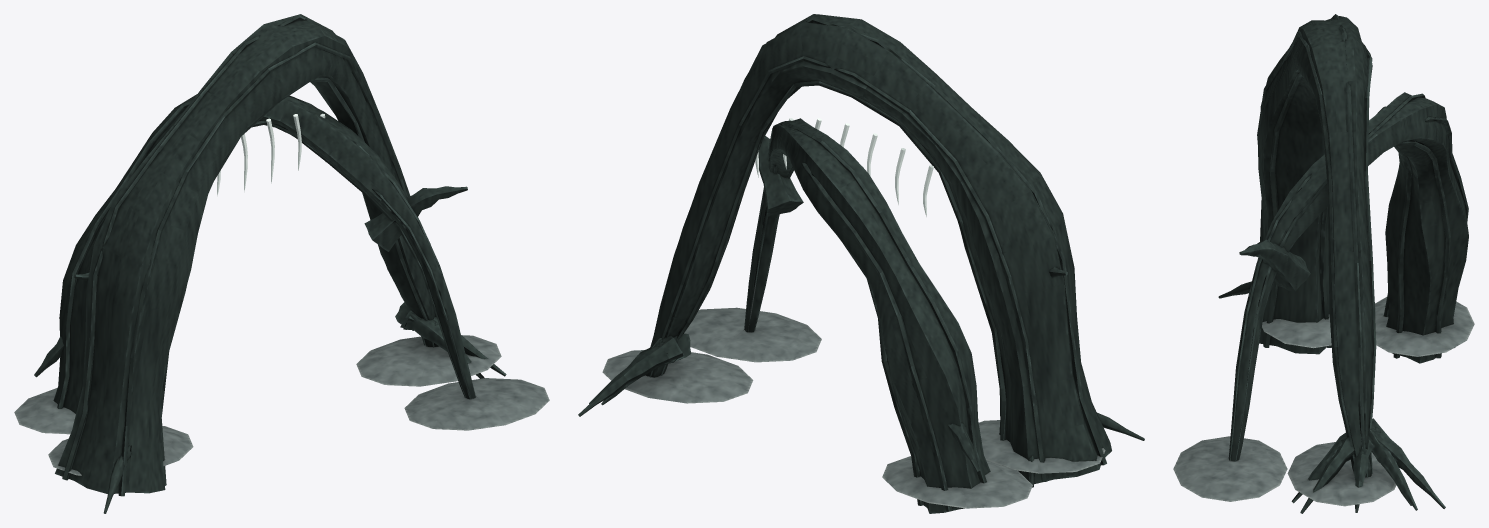
The model's file is underworld-flora-blackwater-drowned-root-arch.glb.
The picture shows the model from 3 angles, left to right: view 1: azimuth 30°, elevation 25°; view 2: azimuth 150°, elevation 25°; view 3: azimuth 270°, elevation 25°; orthographic projection. The views are drawn at different scales.
Parts seen in each view (by area): view 1: knuckled-roots, foot-silt, bark-ridges, anchoring-rootlets, hanging-growths; view 2: knuckled-roots, bark-ridges, foot-silt, anchoring-rootlets, hanging-growths; view 3: knuckled-roots, foot-silt, bark-ridges, anchoring-rootlets.
Boxes of the visible parts, x1=… form: knuckled-roots: x1=53, y1=14, x2=475, y2=493; foot-silt: x1=14, y1=335, x2=549, y2=475; bark-ridges: x1=57, y1=15, x2=475, y2=496; anchoring-rootlets: x1=34, y1=186, x2=506, y2=513; hanging-growths: x1=217, y1=113, x2=325, y2=196; knuckled-roots: x1=645, y1=14, x2=1111, y2=513; bark-ridges: x1=649, y1=17, x2=1106, y2=511; foot-silt: x1=602, y1=307, x2=1105, y2=508; anchoring-rootlets: x1=578, y1=136, x2=1144, y2=487; hanging-growths: x1=755, y1=118, x2=933, y2=216; knuckled-roots: x1=1229, y1=16, x2=1468, y2=477; foot-silt: x1=1173, y1=297, x2=1474, y2=506; bark-ridges: x1=1228, y1=14, x2=1468, y2=477; anchoring-rootlets: x1=1218, y1=239, x2=1445, y2=513.
Bounding box in the file's own units: 5.1 × 4.27 × 2.9.
3 materials, 3 textured.
